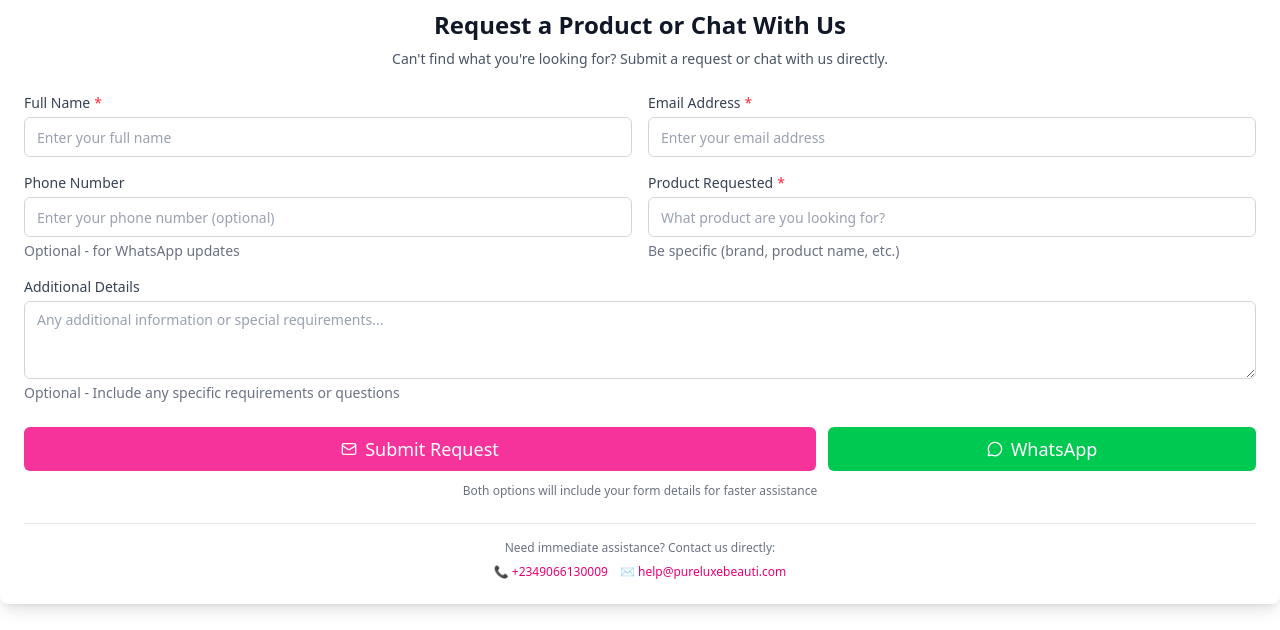
Scenario: RequestForm › submits form with valid data
Fill in valid form data
Type "John Doe" into the field labelled "Full Name*". click: point(328, 137)
box: [24,117,632,157]
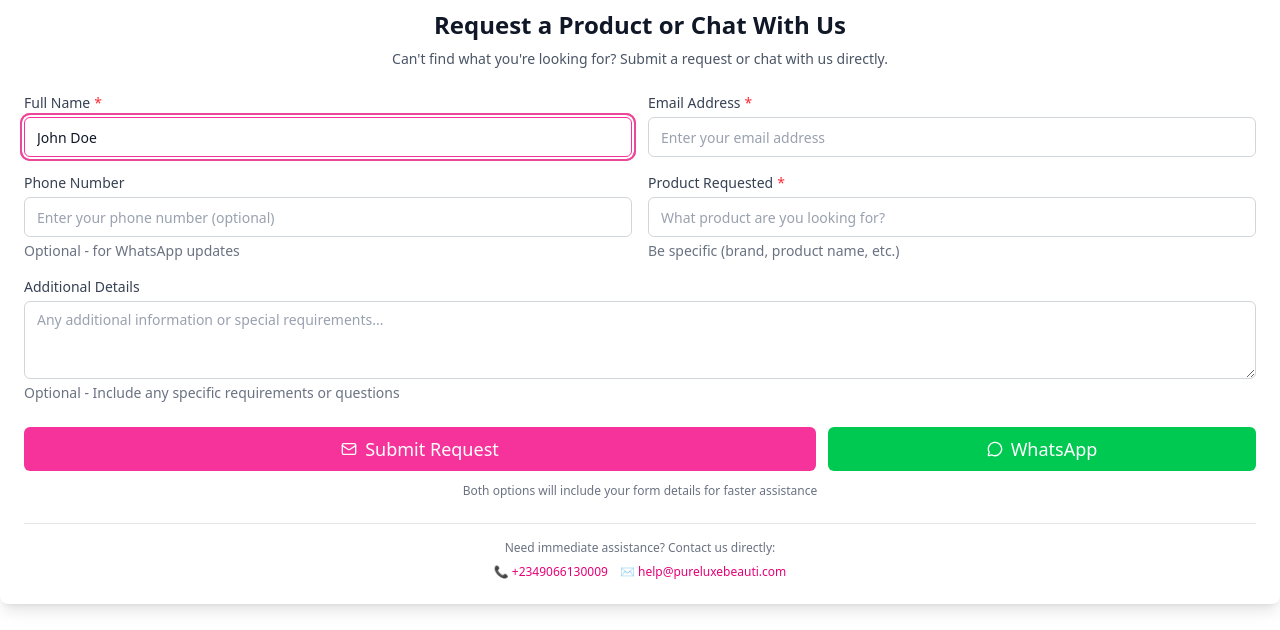
Type "john@example.com" into the field labelled "Email Address*". click: point(952, 137)
box: [648,117,1256,157]
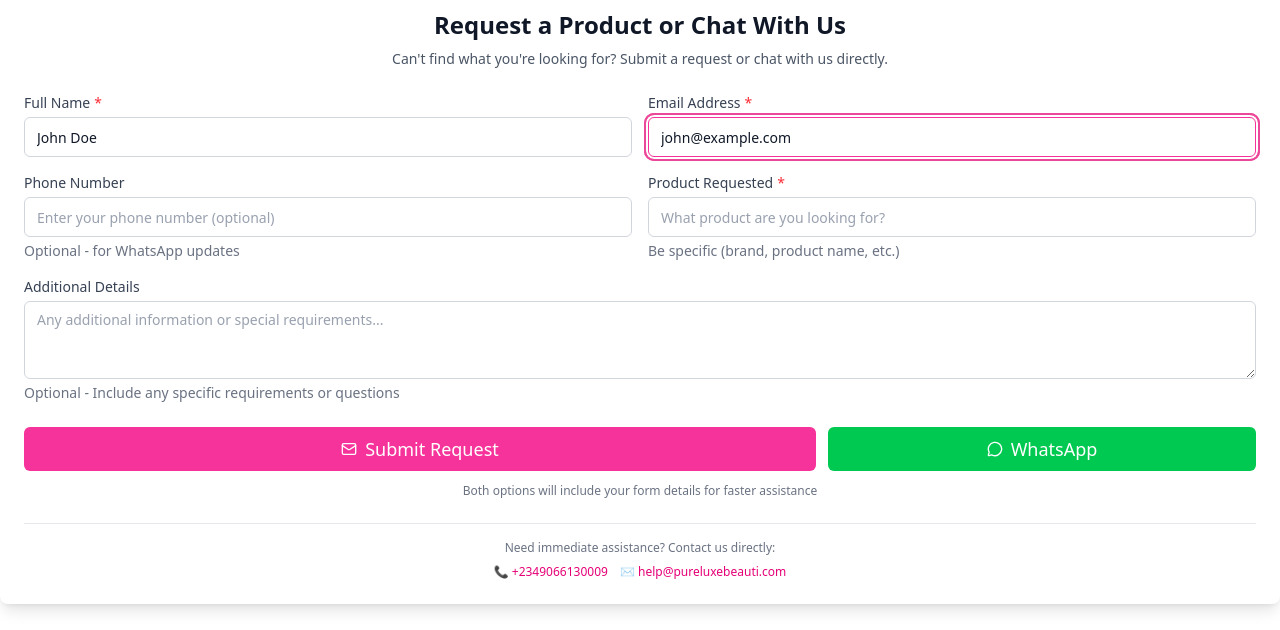
Type "+234 801 234 5678" into the field labelled "Phone Number". click: point(328, 217)
box: [24,197,632,237]
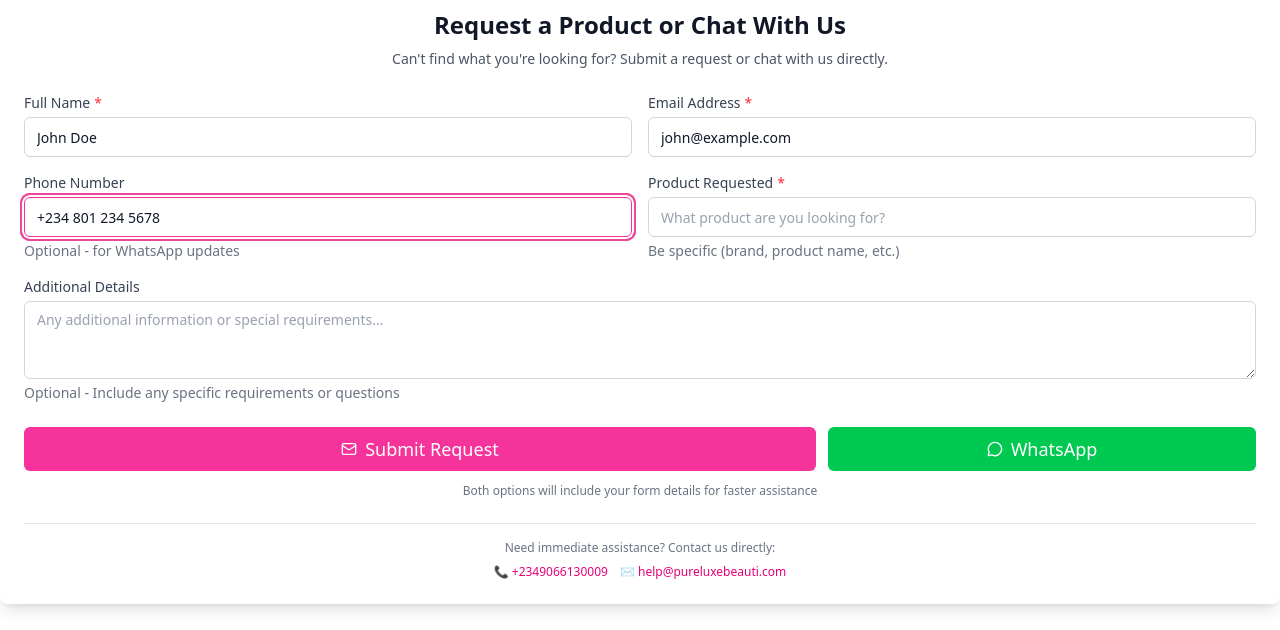
Type "Vitamin C Serum" into the field labelled "Product Requested*". click: point(952, 217)
box: [648,197,1256,237]
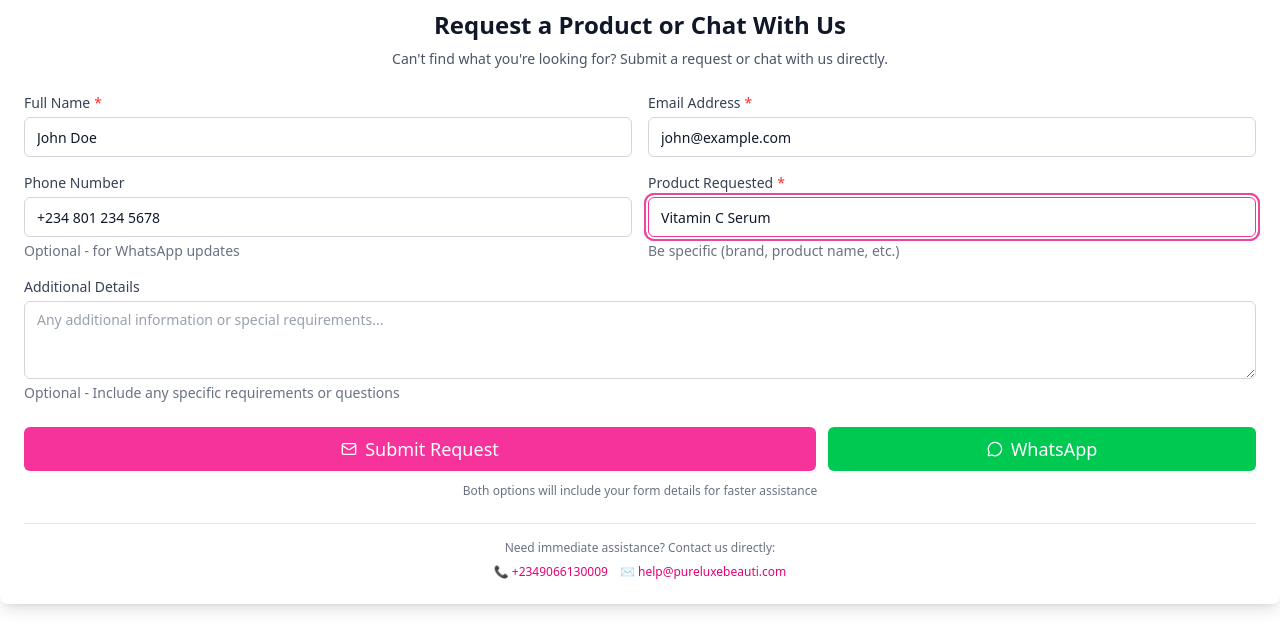
Type "Looking for a good vitamin C serum for sensitive skin" into the text box labelled "Additional Details". click: point(640, 340)
box: [24,301,1256,379]
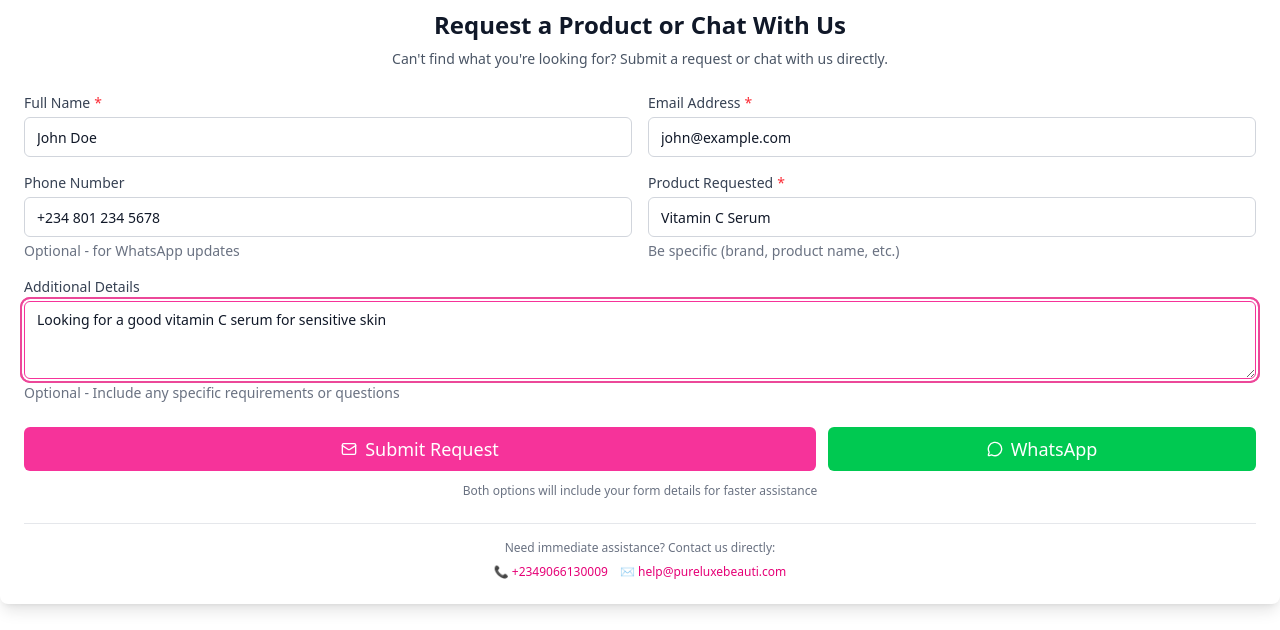
Click the button "Submit Request". click: point(420, 449)
box: [24,427,816,471]
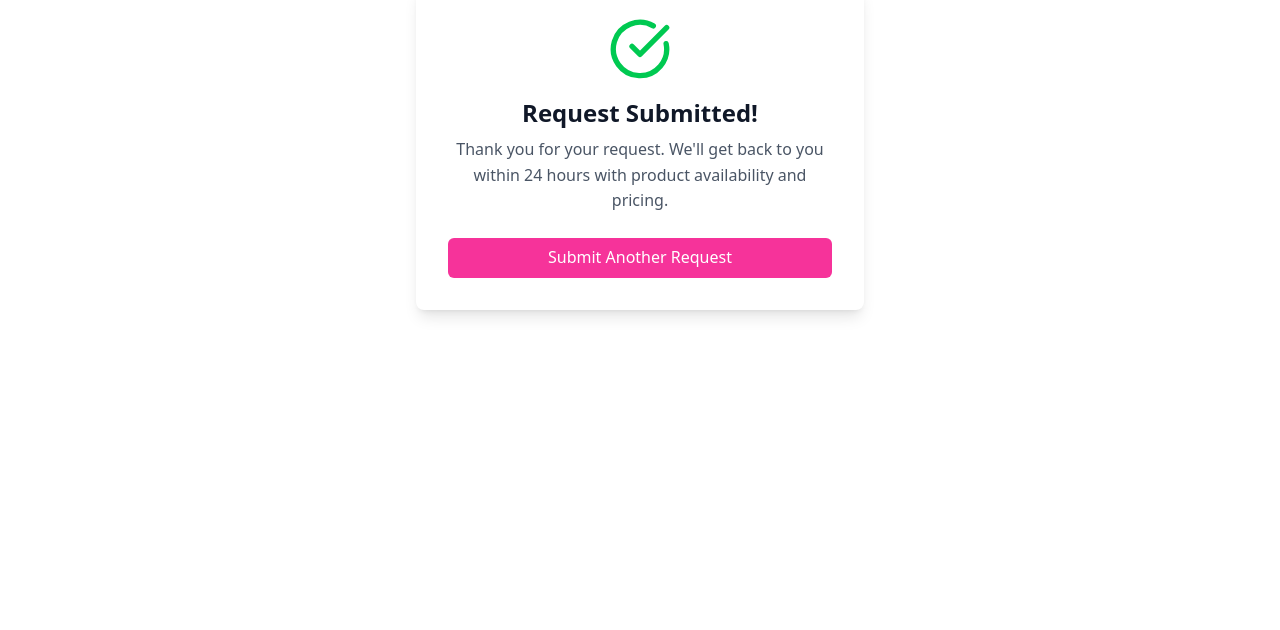
Expected: the heading "Request Submitted!" is shown, [522,96,758,129]
Expected: the text "Thank you for your request" is shown, [456,138,824,211]
